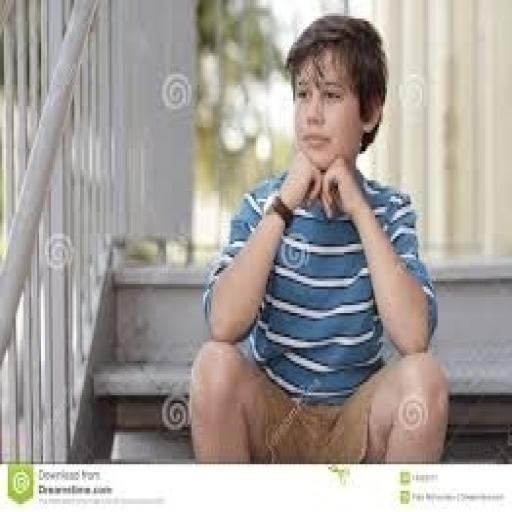sitting: (186, 11, 452, 464)
